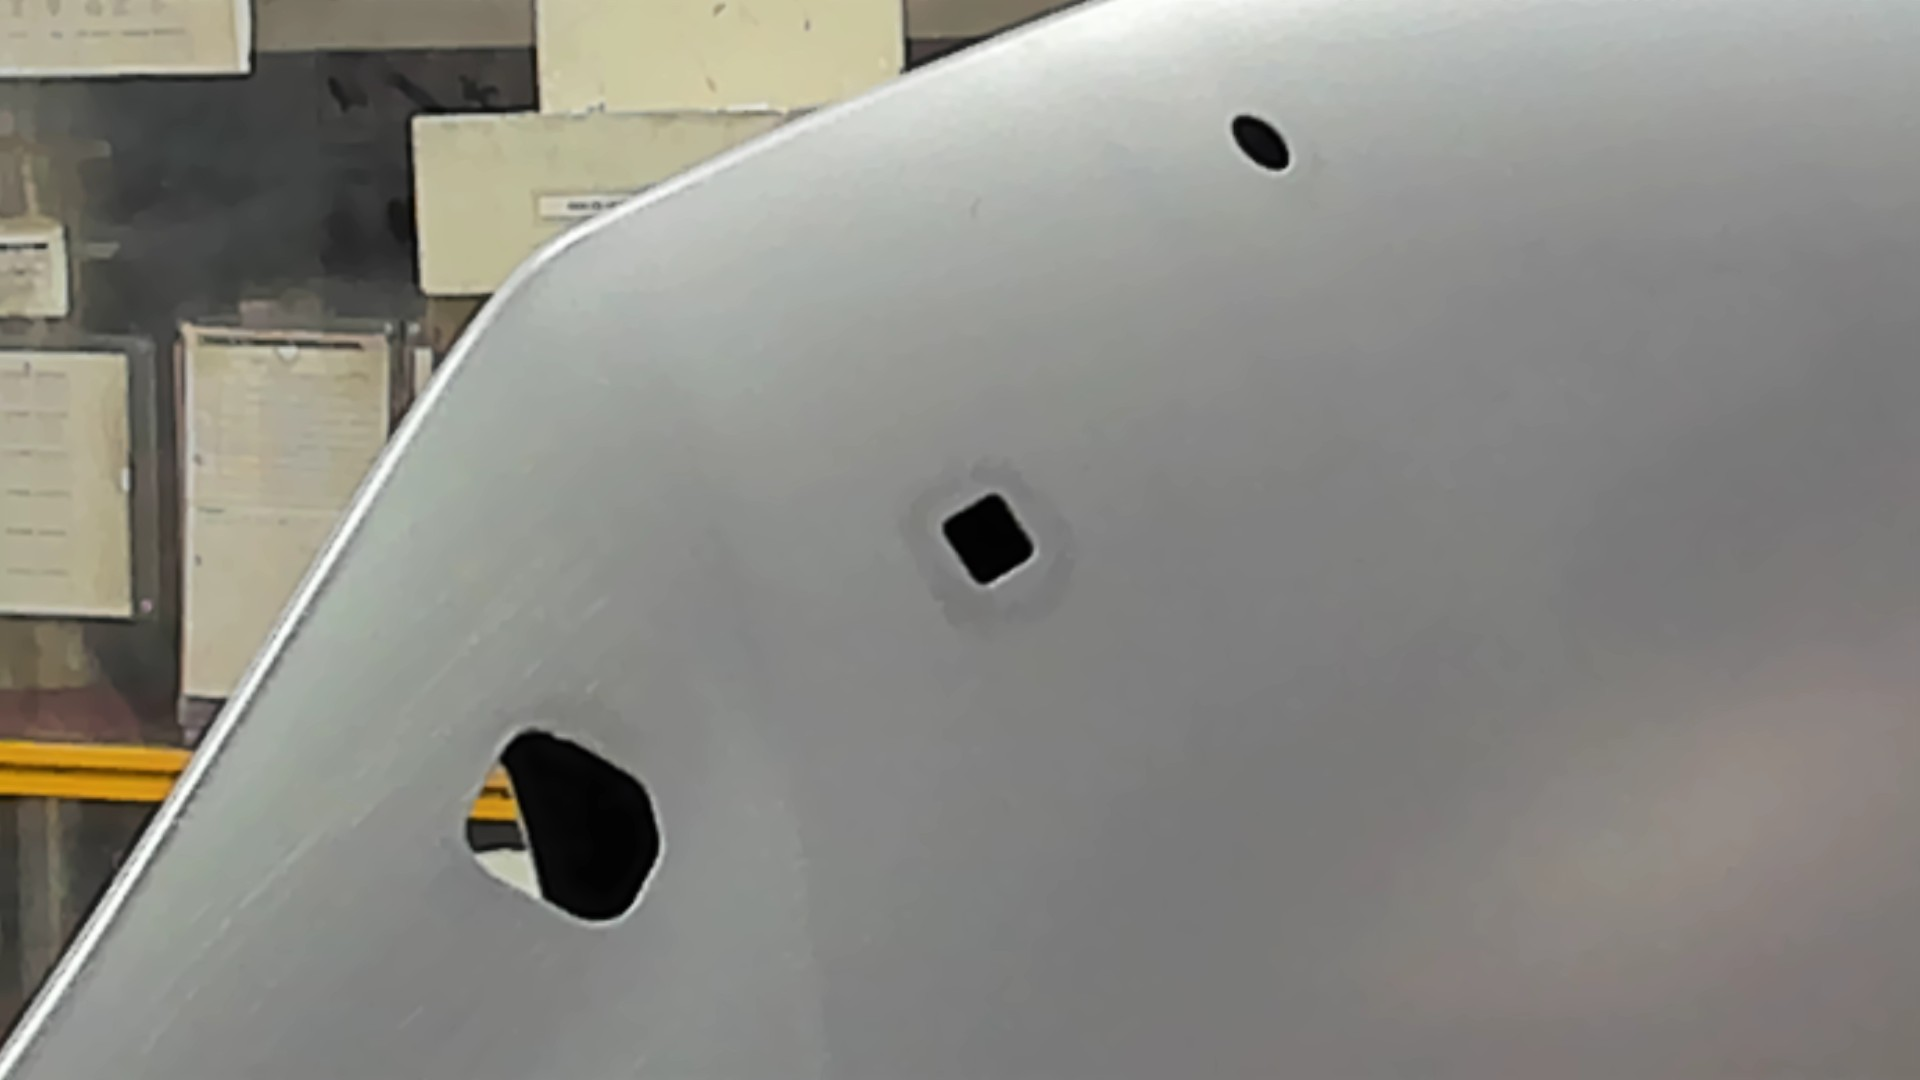chico: (1226, 109, 1296, 175)
grande: (459, 723, 666, 928)
mediano: (938, 488, 1040, 593)
